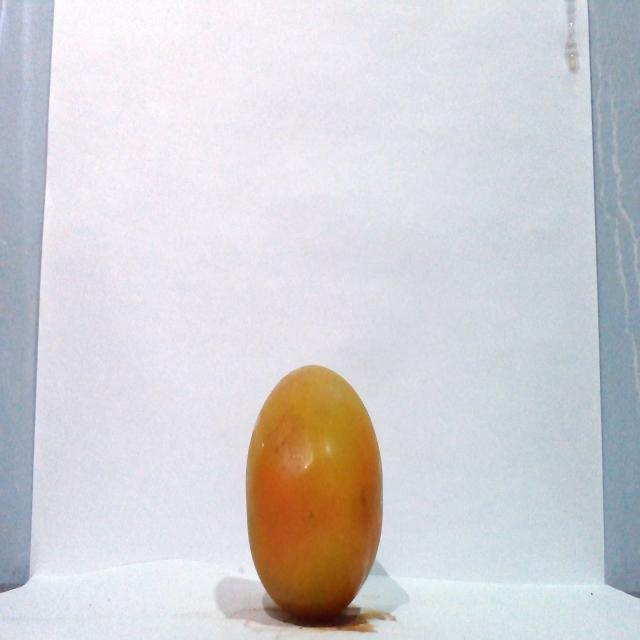Red: (243, 362, 384, 621)
